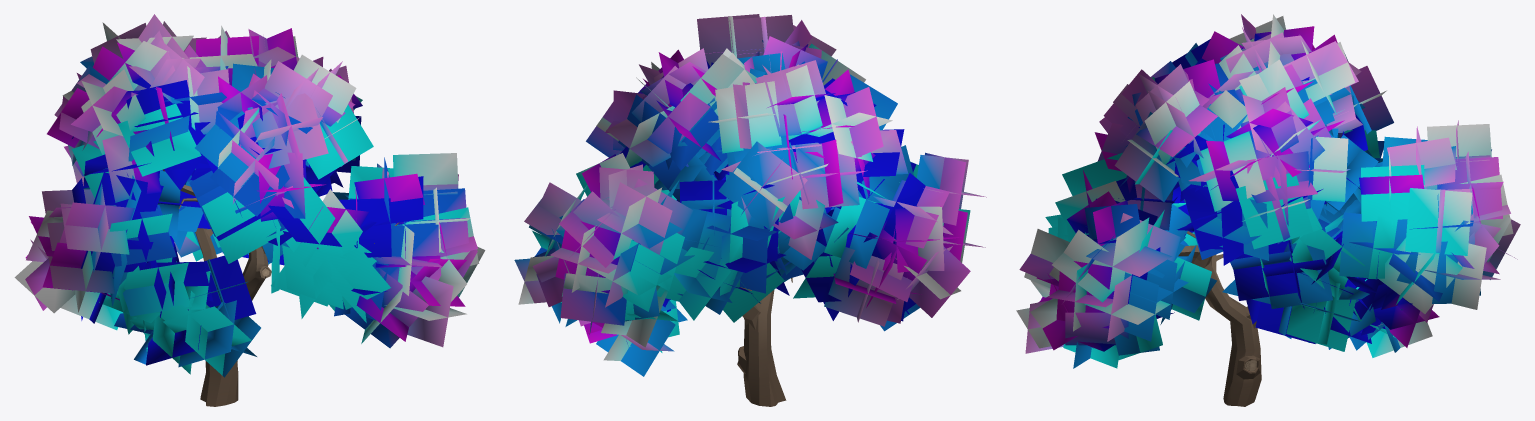
File: PT_Fruit_Tree_01_green_cut.fbx
The picture shows the model from 3 angles, left to right: view 1: azimuth 30°, elevation 25°; view 2: azimuth 150°, elevation 25°; view 3: azimuth 270°, elevation 25°; orthographic projection.
Visible parts, largest first — view 1: PT_Fruit_Tree_01_green_cut; view 2: PT_Fruit_Tree_01_green_cut; view 3: PT_Fruit_Tree_01_green_cut.
Boxes of the visible parts, x1,y1,x2,y2 form: PT_Fruit_Tree_01_green_cut: (14,14,485,406); PT_Fruit_Tree_01_green_cut: (514,14,986,406); PT_Fruit_Tree_01_green_cut: (1016,14,1520,406).
Size of the model in its own units: 650 by 566 by 725.
